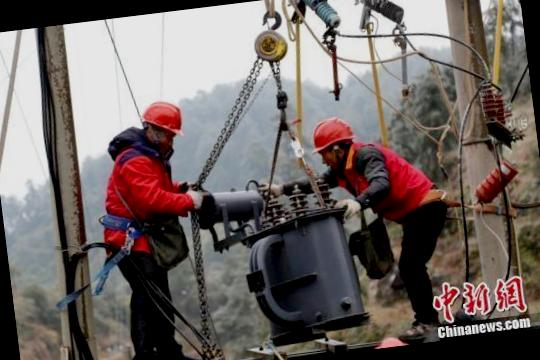helmet: (138, 96, 188, 139), (308, 114, 360, 152)
person: (301, 104, 451, 354), (85, 94, 221, 360)
